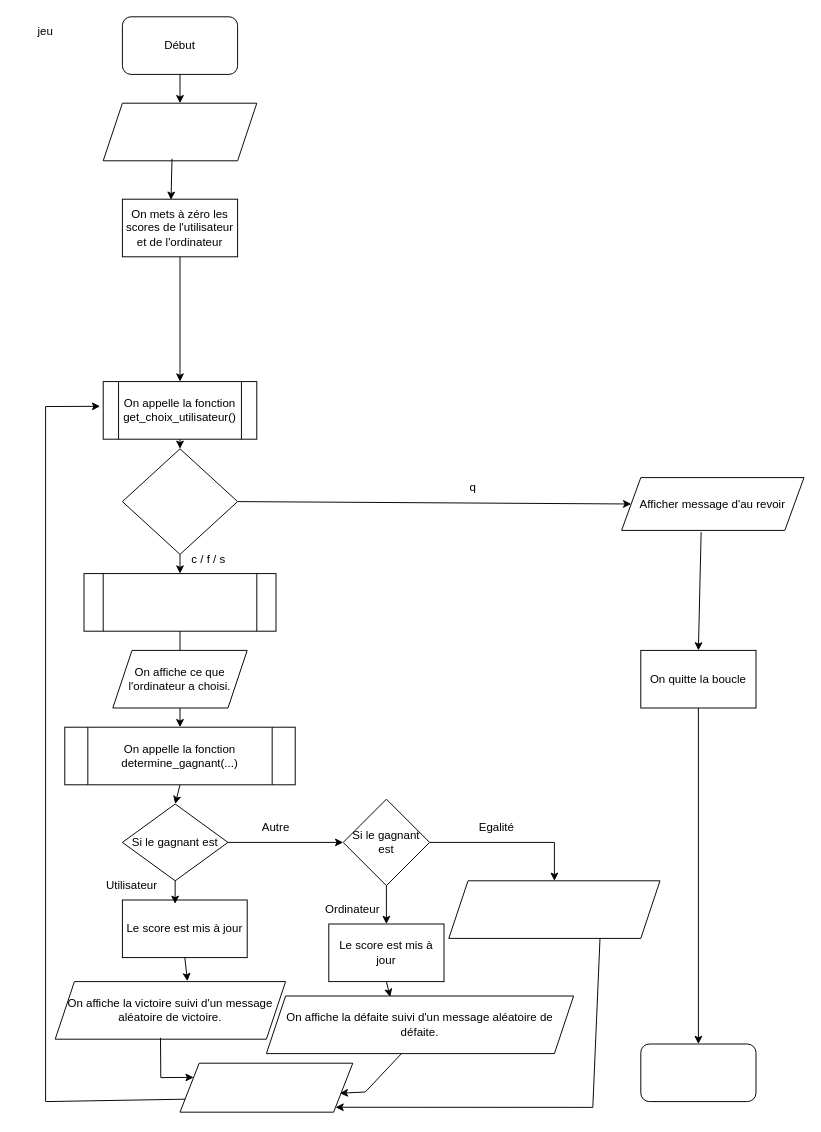
This 821x1132 diagram has some shape labels left out. The shapes that lost their labels are listed below. From the top down, each one's centre as x and y in pixels, then its label:
the point at 179,131: On affiche le message de bienvenu
the point at 179,501: Selon le choix de l'utilisateur
the point at 179,602: On appelle la fonction get_choix_ordinateur()
the point at 554,909: On affiche l'égalité suivi d'un message aléatoire d'égalité.
the point at 266,1087: On affiche le score mis à jour
the point at 698,1072: Fin
